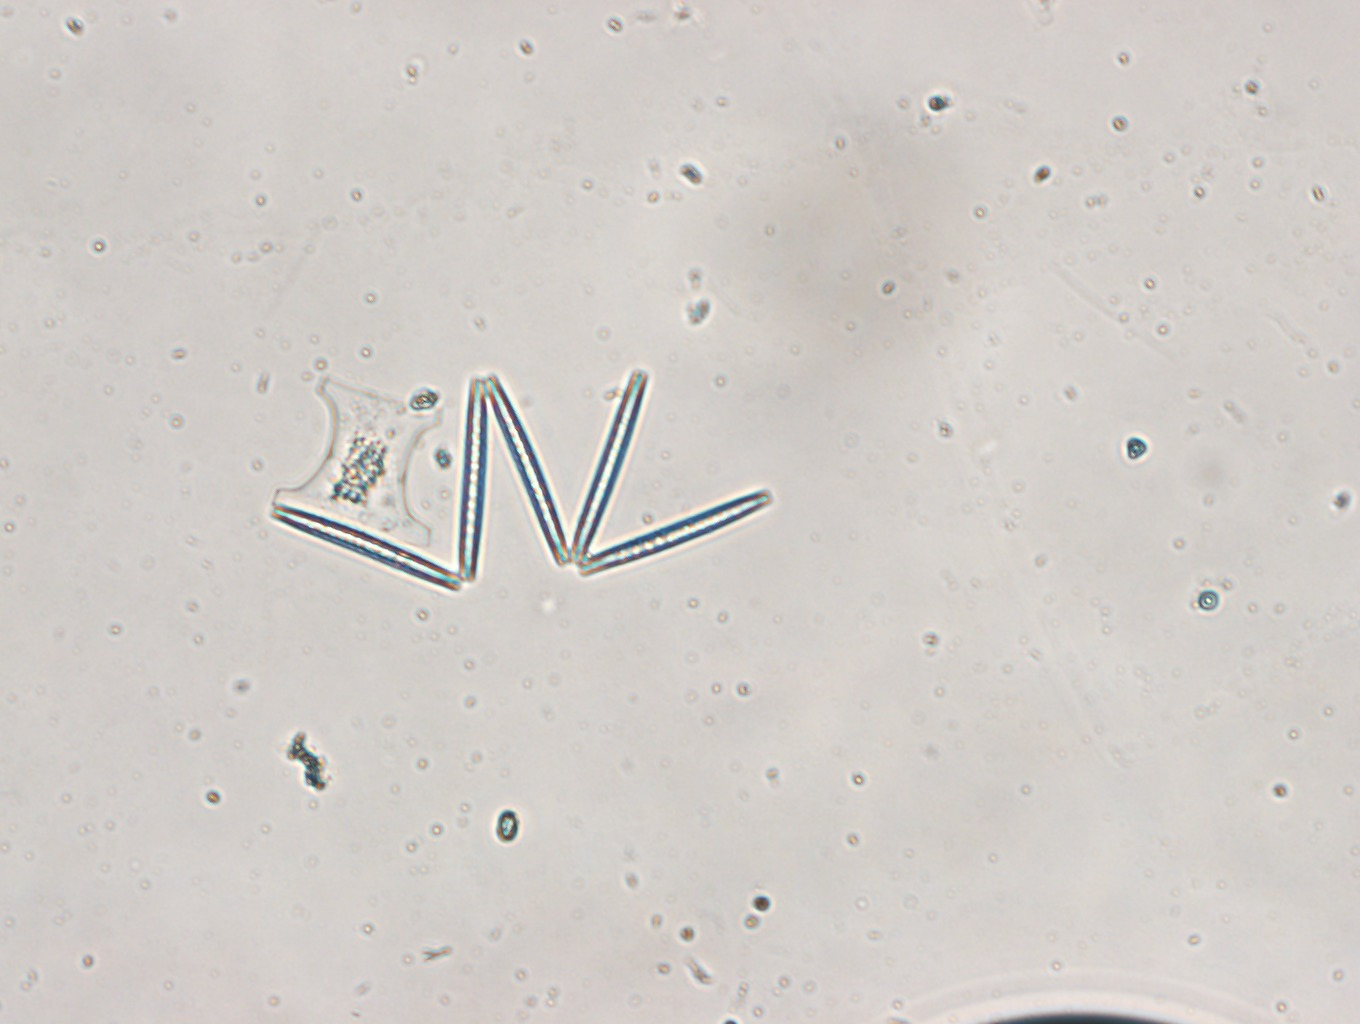eucampia: (269, 376, 443, 547)
thalassionema nitzschioides: (267, 368, 773, 593)
